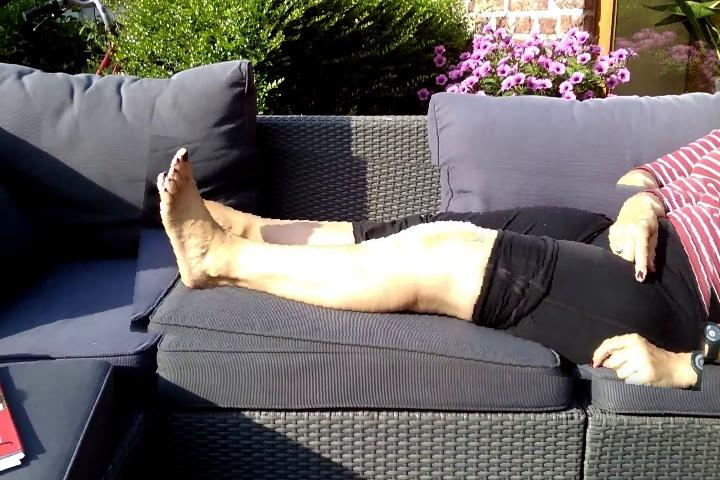lower_body: (136, 151, 718, 377)
